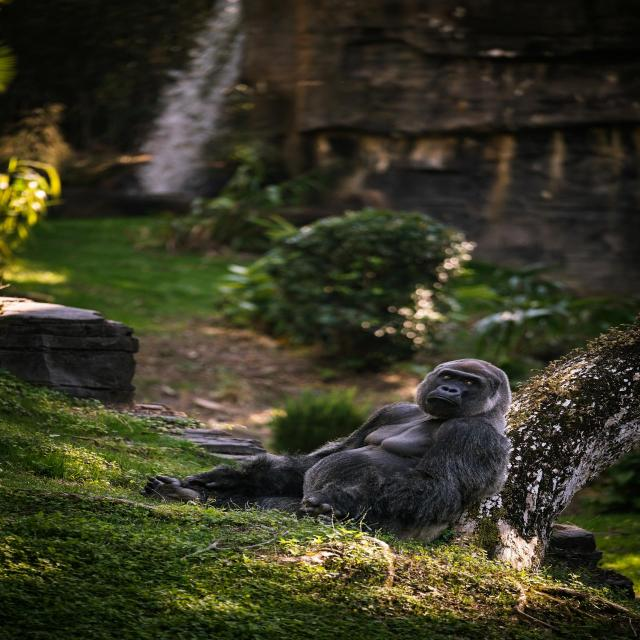Gorilla: (138, 357, 514, 547)
